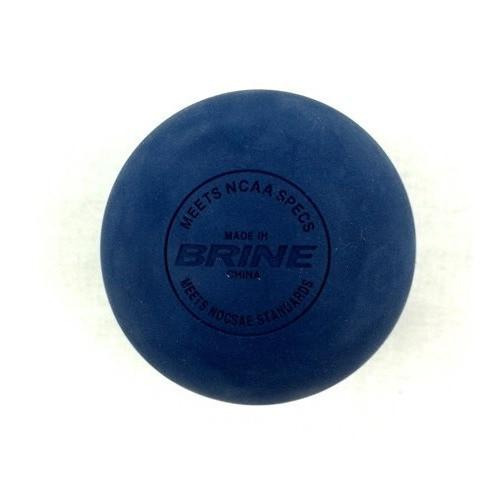blue ball: (101, 88, 418, 407)
